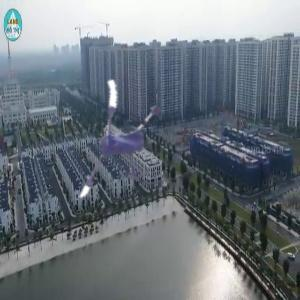drone: (56, 65, 189, 198)
